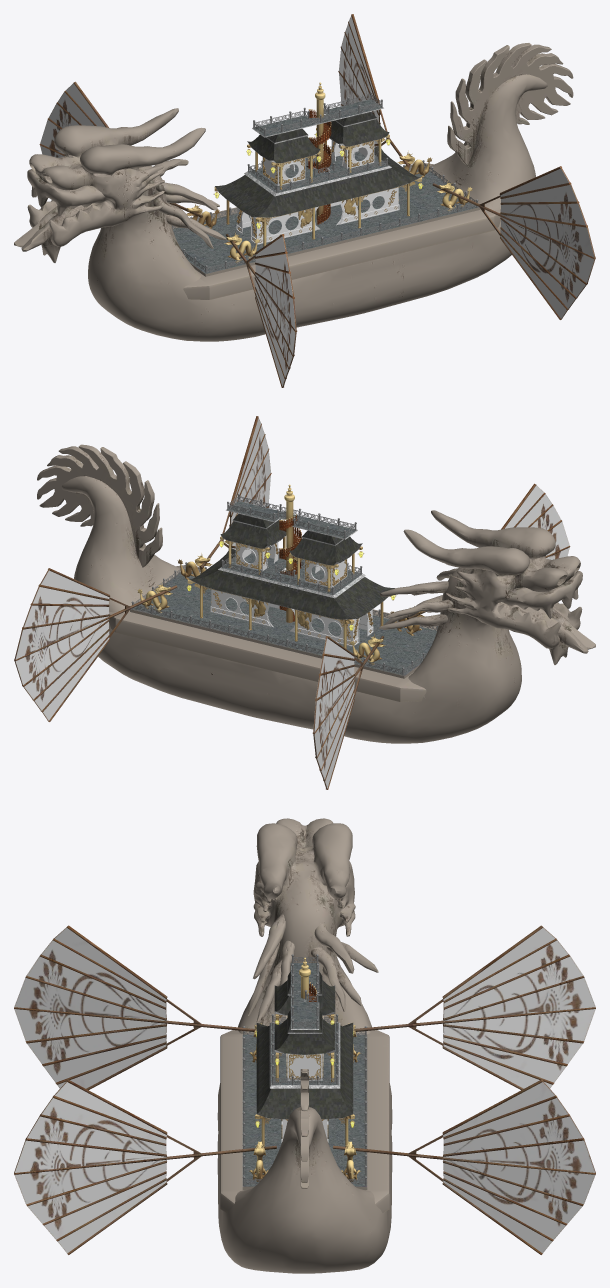
The model's file is tasarim9.glb.
The picture shows the model from 3 angles, top to bottom: view 1: azimuth 30°, elevation 25°; view 2: azimuth 150°, elevation 25°; view 3: azimuth 270°, elevation 25°; orthographic projection. The views are drawn at different scales.
Parts seen in each view (by area): view 1: Base_Drake_0, Base_Big Fans_0, Base_Base_0, Base_Buildings_0, Base_Fence_0, Base_Ornaments_0, Base_Drake_Statue_0, Base_Stairs_0; view 2: Base_Drake_0, Base_Big Fans_0, Base_Base_0, Base_Buildings_0, Base_Fence_0, Base_Ornaments_0, Base_Drake_Statue_0, Base_Stairs_0; view 3: Base_Big Fans_0, Base_Drake_0, Base_Base_0, Base_Buildings_0, Base_Fence_0, Base_Ornaments_0, Base_Drake_Statue_0.
Part boxes in pixels (x1,y1,x2,y2): Base_Drake_0: (14, 43, 573, 341); Base_Big Fans_0: (39, 14, 595, 387); Base_Base_0: (172, 163, 500, 299); Base_Buildings_0: (215, 99, 420, 244); Base_Fence_0: (172, 91, 478, 273); Base_Ornaments_0: (213, 82, 423, 246); Base_Drake_Statue_0: (187, 151, 472, 263); Base_Stairs_0: (308, 109, 331, 224); Base_Drake_0: (37, 444, 595, 743); Base_Big Fans_0: (14, 416, 570, 789); Base_Base_0: (109, 565, 436, 701); Base_Buildings_0: (189, 501, 394, 646); Base_Fence_0: (131, 493, 438, 675); Base_Ornaments_0: (186, 484, 396, 648); Base_Drake_Statue_0: (137, 553, 424, 665); Base_Stairs_0: (279, 514, 301, 621); Base_Big Fans_0: (14, 925, 595, 1254); Base_Drake_0: (217, 818, 392, 1273); Base_Base_0: (220, 1030, 389, 1212); Base_Buildings_0: (256, 963, 353, 1142); Base_Fence_0: (242, 954, 367, 1185); Base_Ornaments_0: (254, 957, 355, 1146); Base_Drake_Statue_0: (249, 1023, 360, 1181).
Size of the model in its own units: 176 by 64.84 by 140.
9 materials, 8 textured.
